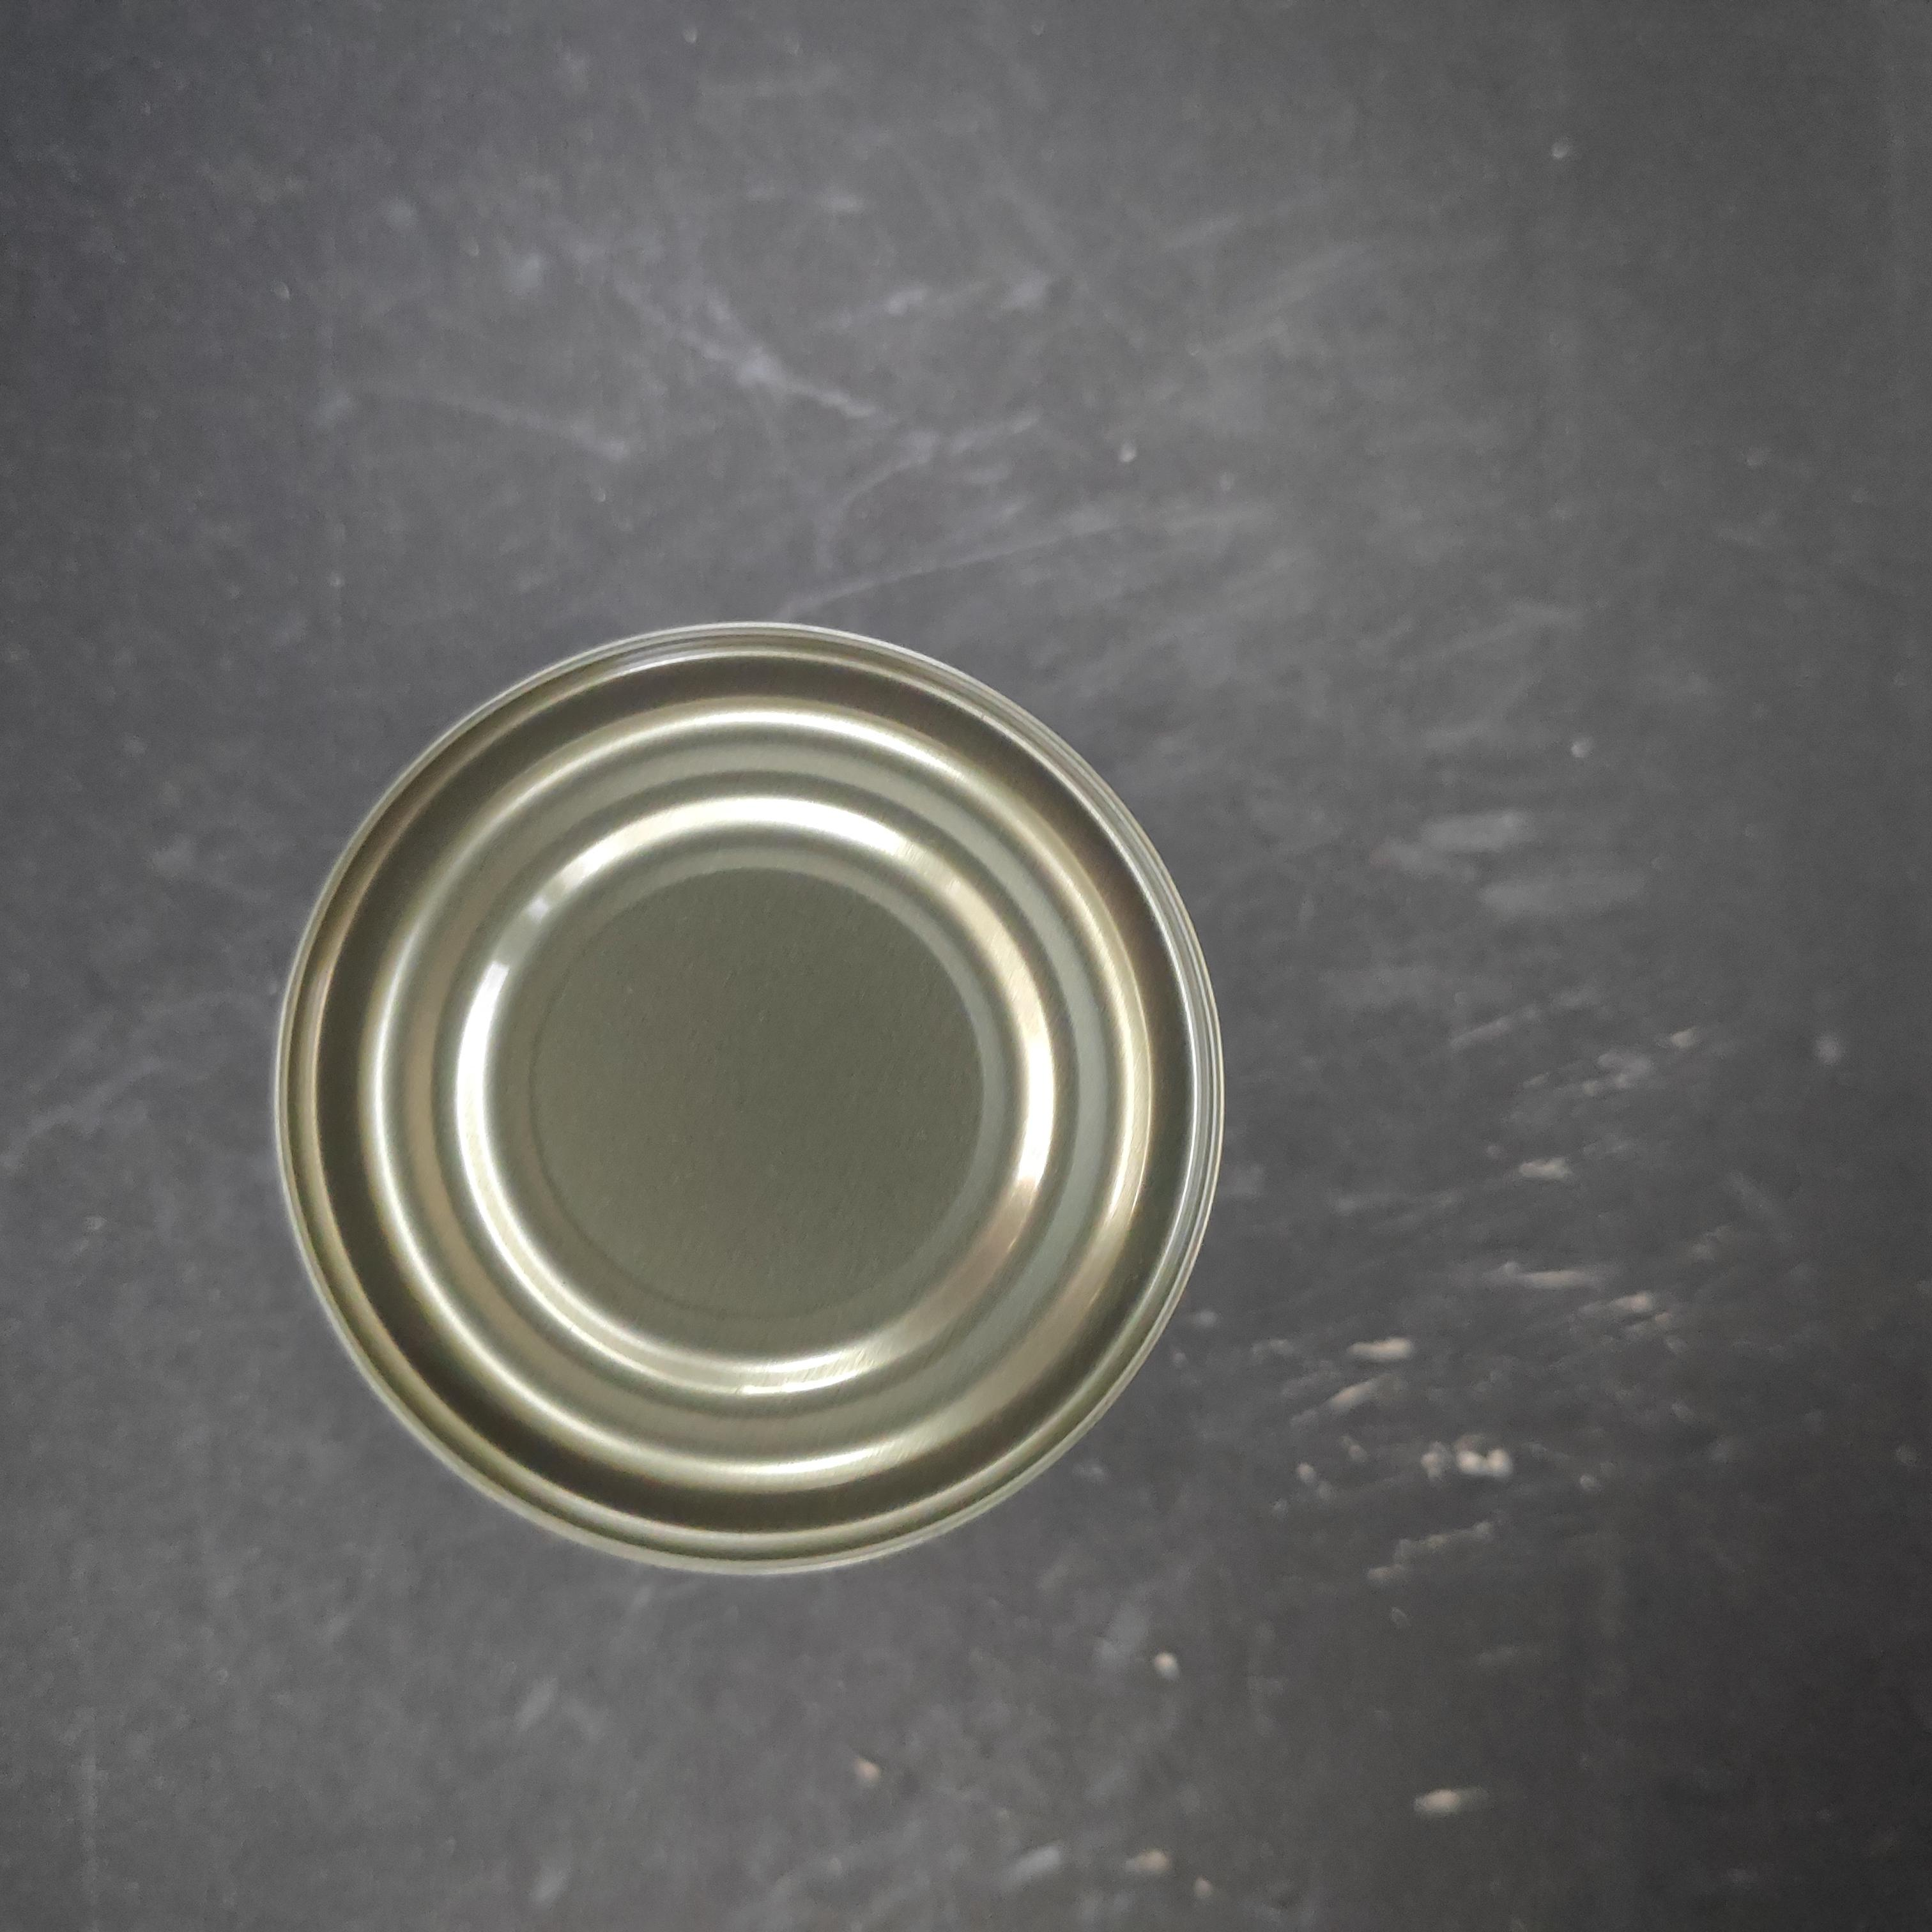No defect: (602, 691, 1588, 1672)
